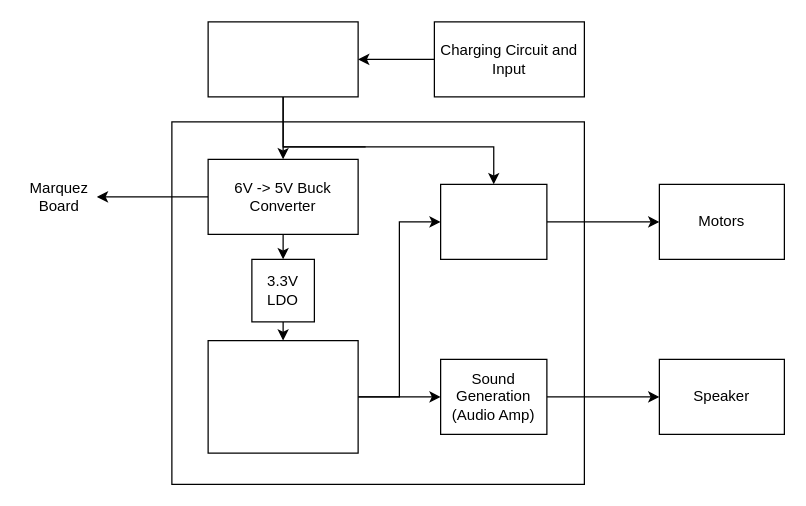
This 806x506 diagram has some shape labels left out. The shapes that lost their labels are listed below. From the top down, each one's box as (x1, y1, x2, y2) in pixels, then its label:
(207, 21, 358, 97): 6V Battery
(439, 183, 547, 259): H Bridge
(207, 339, 358, 453): MSP 430
